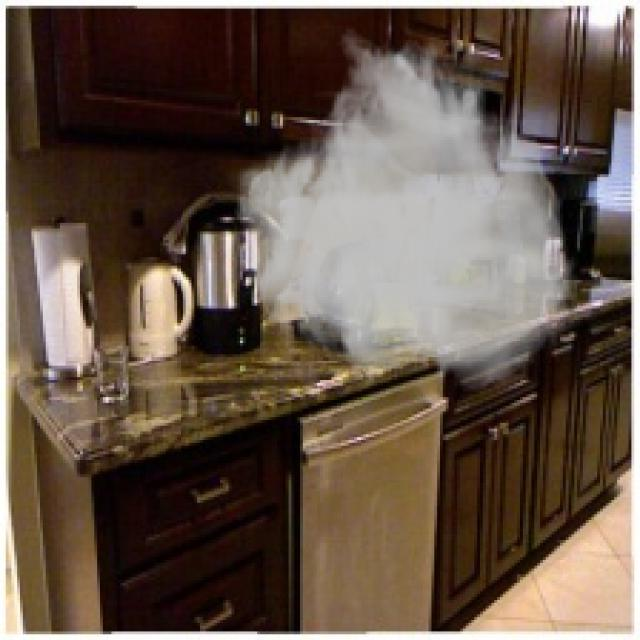smoke: (231, 26, 580, 394)
